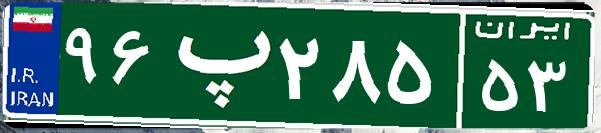2: (273, 28, 330, 110)
3: (525, 38, 570, 115)
5: (385, 28, 445, 110), (475, 38, 525, 113)
6: (110, 28, 158, 105)
8: (330, 28, 385, 110)
9: (57, 26, 110, 107)
پ: (158, 15, 273, 115)
